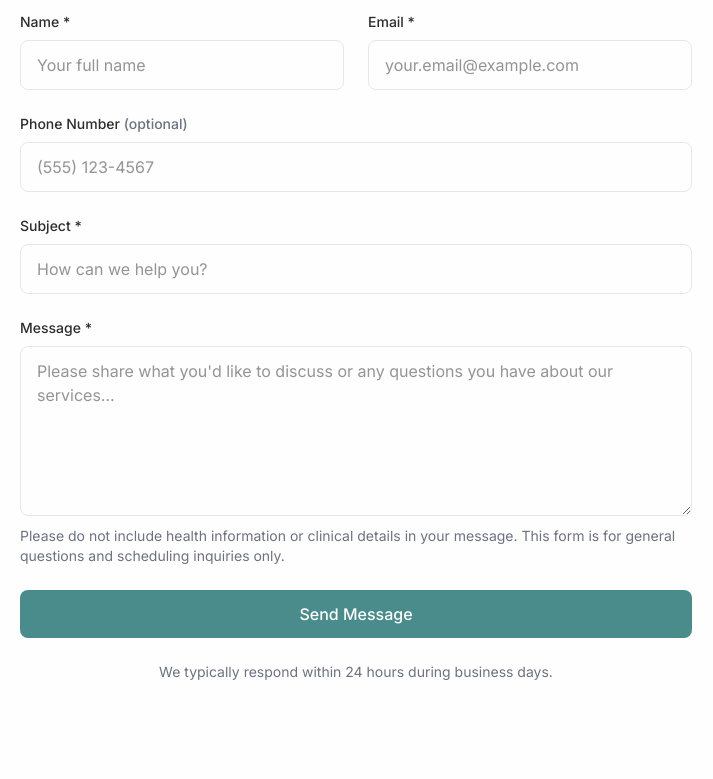
ContactForm › shows error message when submission fails
Note: Fill out the form with valid data
Type "John Doe" into the field labelled "Name *" at (182, 65), box [20,40,344,90]
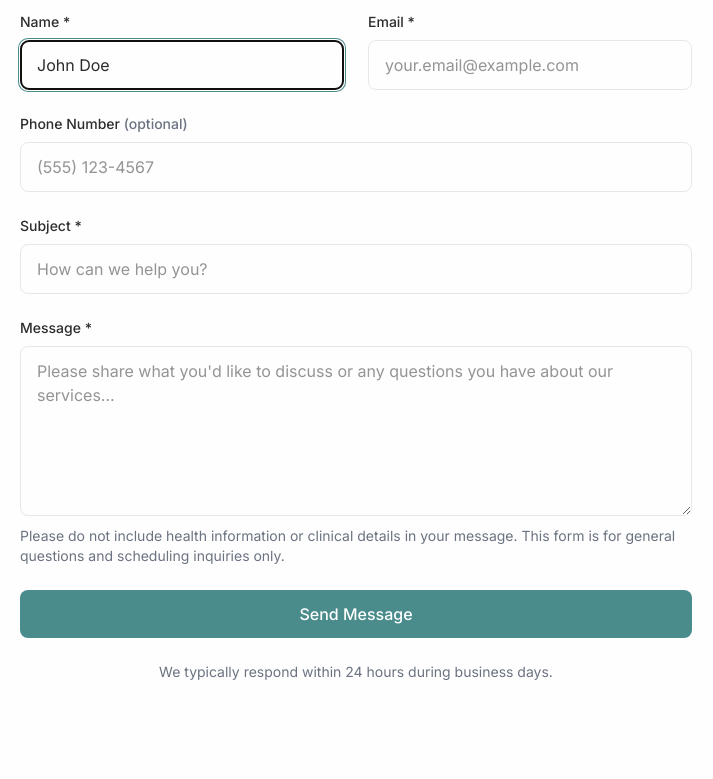
Type "john@example.com" into the field labelled "Email *" at (530, 65), box [368,40,692,90]
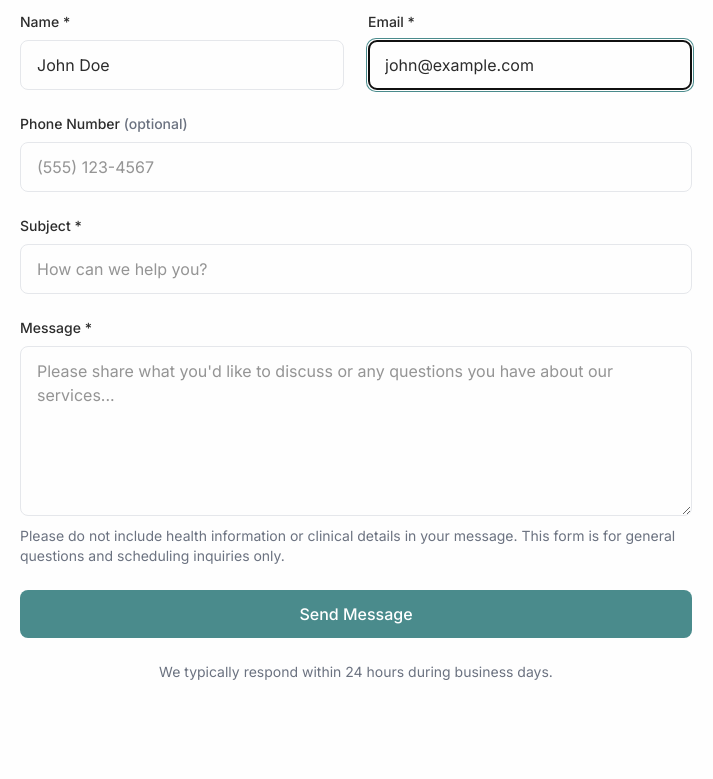
Type "Test subject" into the field labelled "Subject *" at (356, 269), box [20,244,692,294]
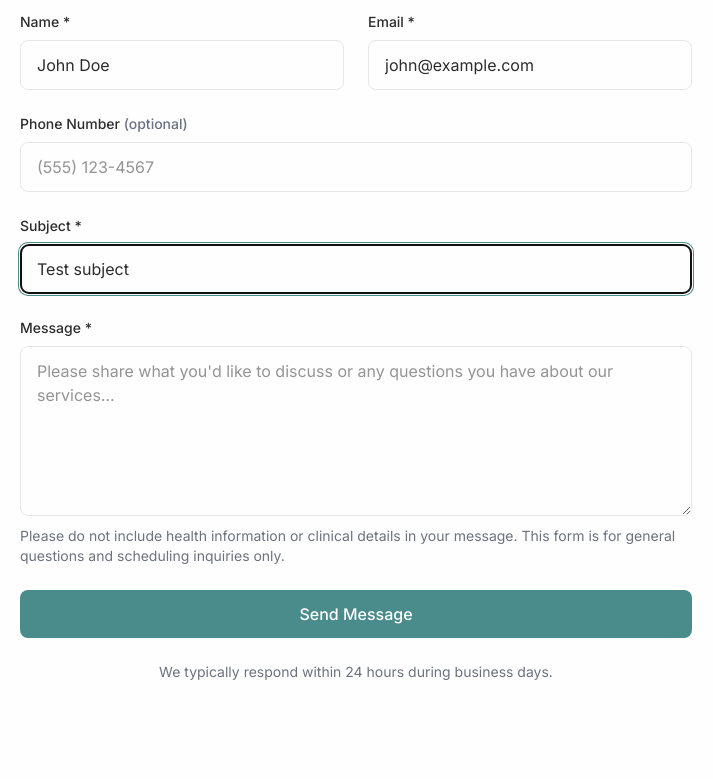
Type "This is a test message." into the text box labelled "Message *" at (356, 431), box [20,346,692,516]
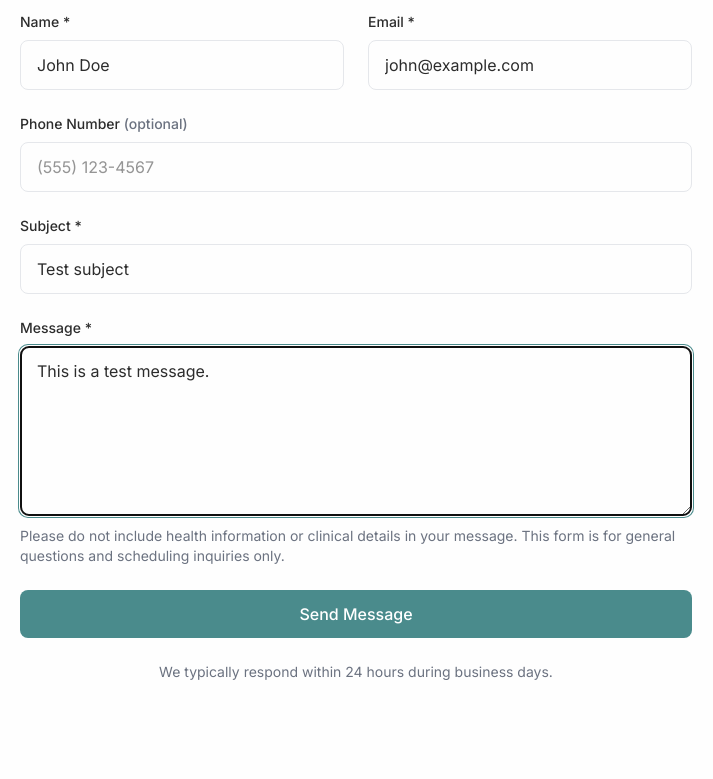
Click the button "Send Message" at (356, 614), box [20,590,692,638]
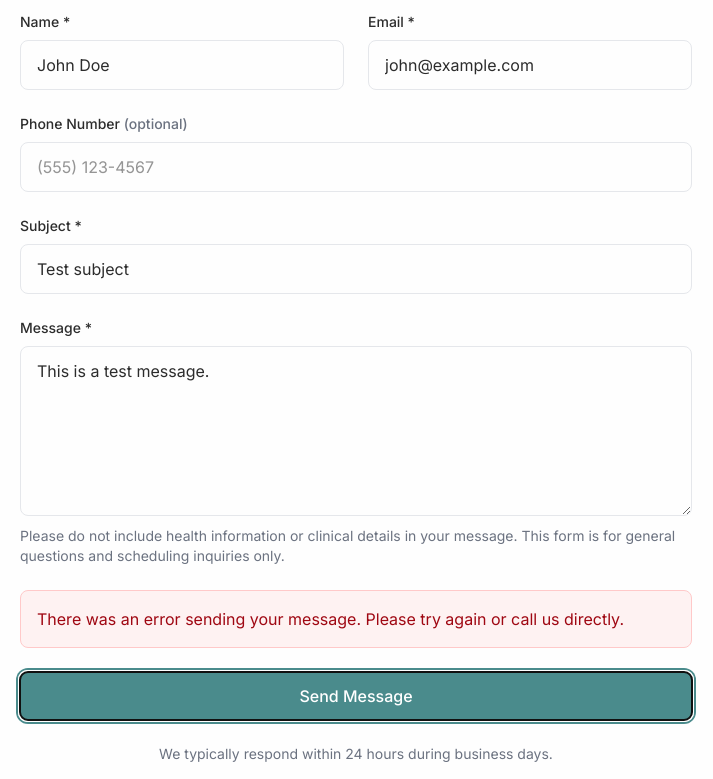
Check: the text "There was an error sending your message" is shown, box [37,609,624,629]
